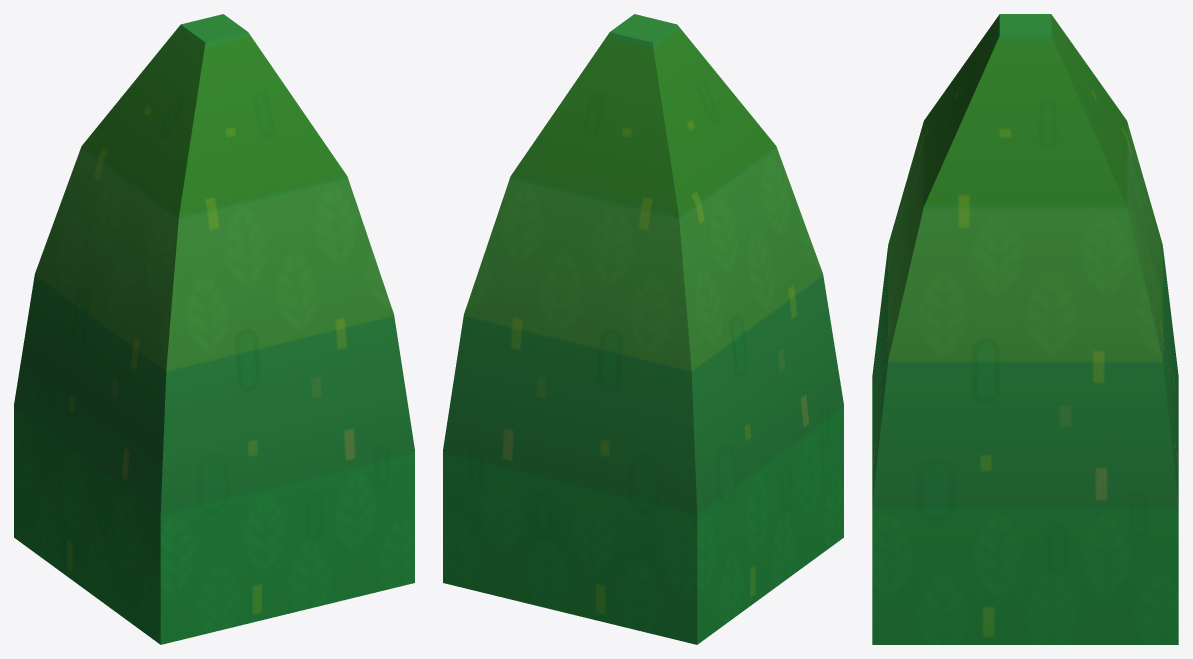
The model's file is BG_007_conifer.FBX.
The picture shows the model from 3 angles, left to right: view 1: azimuth 30°, elevation 25°; view 2: azimuth 150°, elevation 25°; view 3: azimuth 270°, elevation 25°; orthographic projection. The views are drawn at different scales.
Visible parts, largest first — view 1: BG_007_conifer; view 2: BG_007_conifer; view 3: BG_007_conifer.
Part boxes in pixels (left/top/right/bottom): BG_007_conifer: left=14, top=14, right=414, bottom=644; BG_007_conifer: left=443, top=14, right=843, bottom=644; BG_007_conifer: left=872, top=14, right=1178, bottom=644.
Size of the model in its own units: 150 by 300 by 150.
